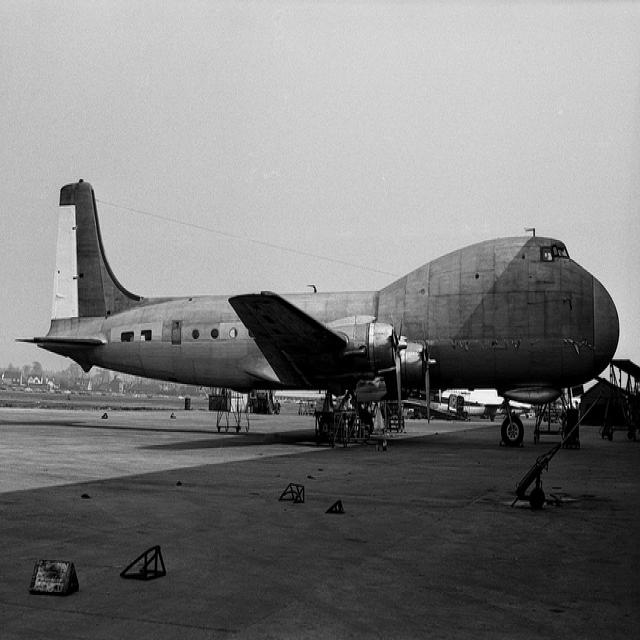airplane: (13, 176, 622, 452)
